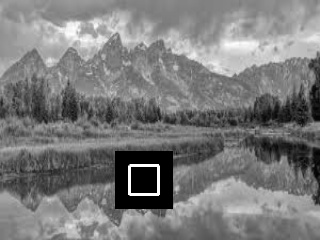square: (115, 151, 173, 209)
